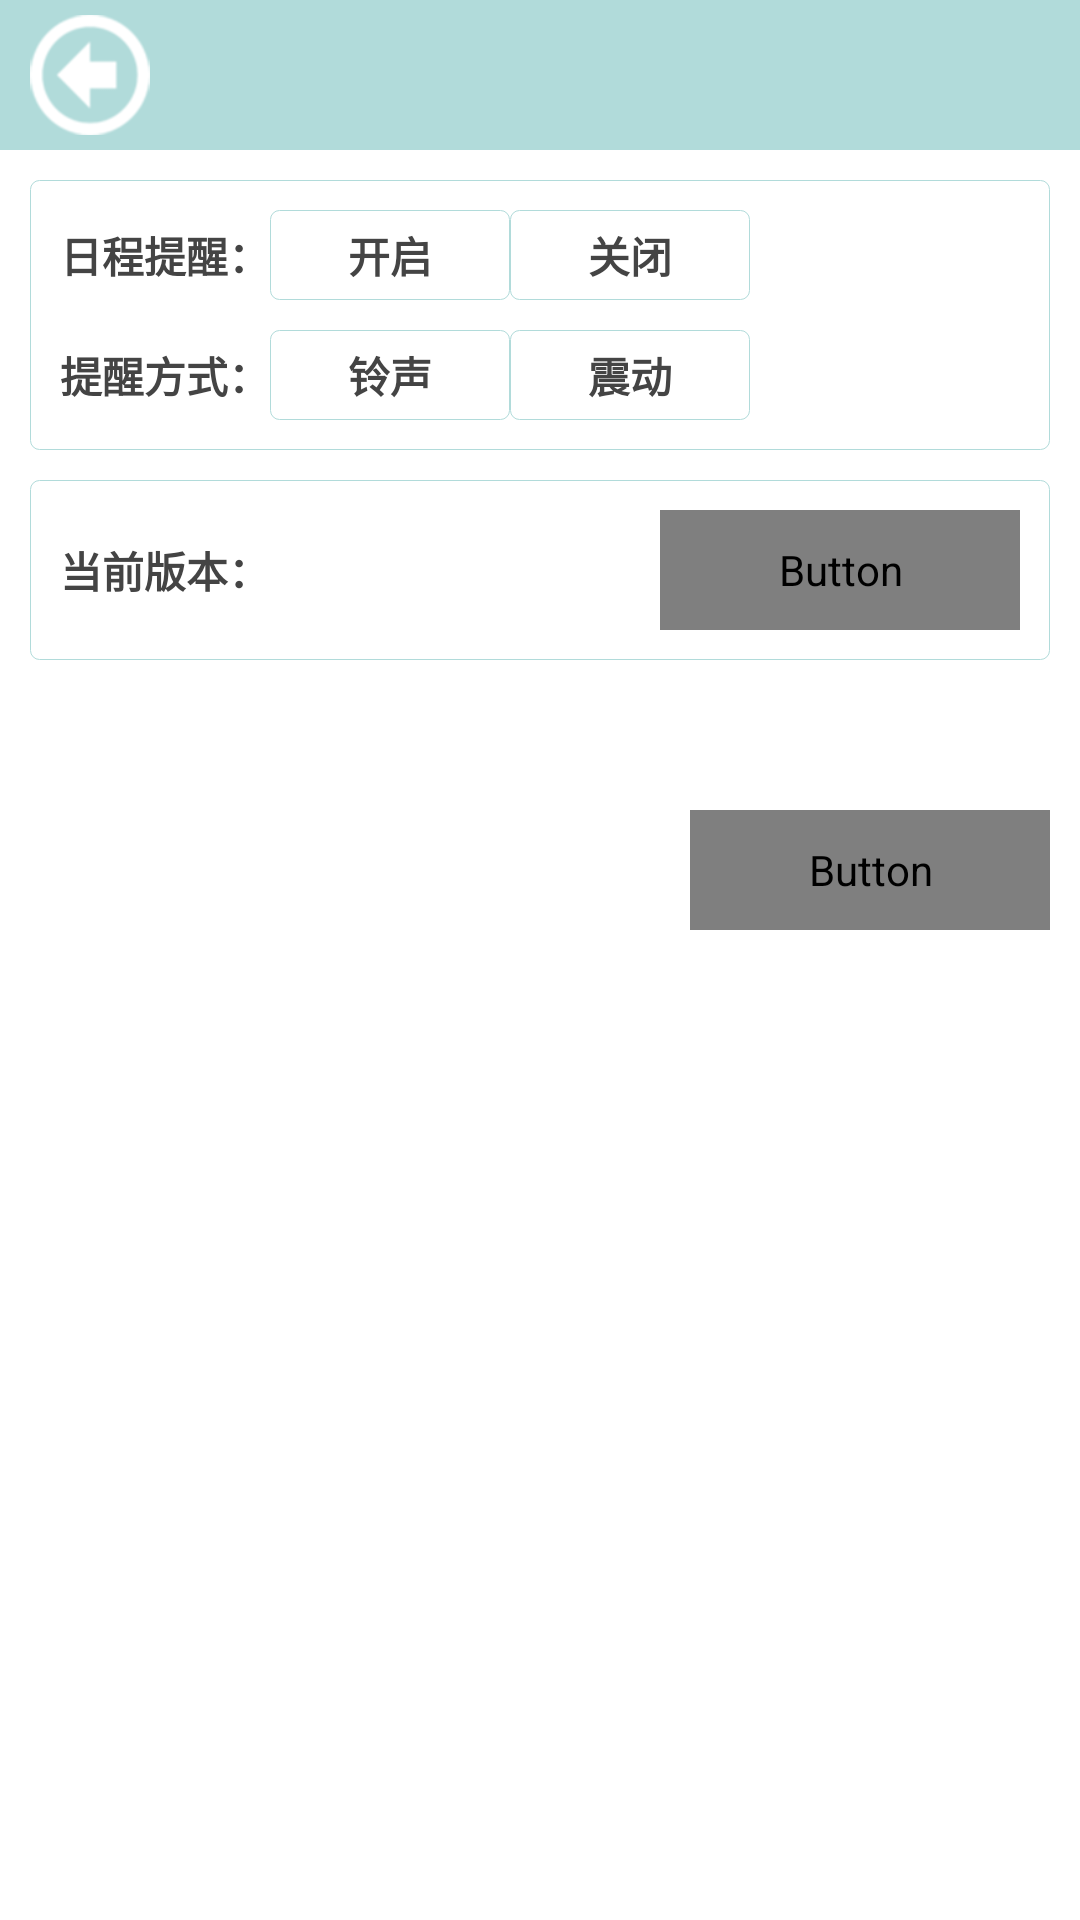

Icon click points for this 1080 × 1920 phone screenshot, format [x,y]:
back: [90,75]
